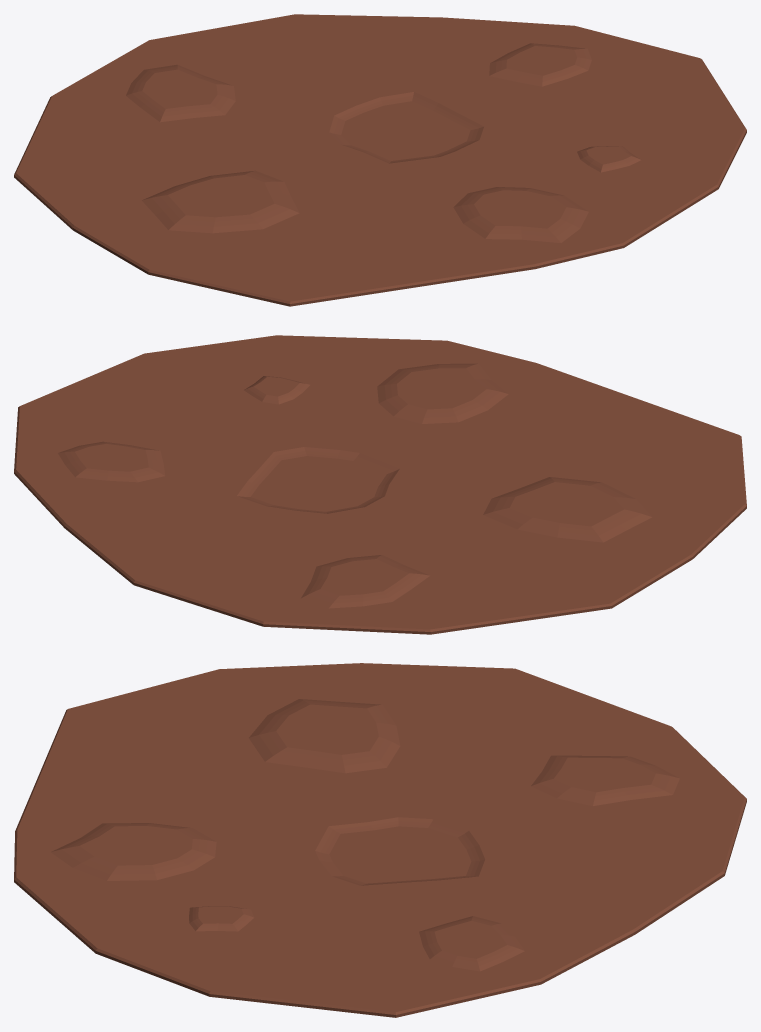
The model's file is rock-terrain-blob-ff95a3.glb.
3 views of the same model, one above another, from view 1: azimuth 30°, elevation 25°; view 2: azimuth 150°, elevation 25°; view 3: azimuth 270°, elevation 25° (orthographic). The views are drawn at different scales.
Visible parts, largest first — view 1: rock-terrain-blob-mesh; view 2: rock-terrain-blob-mesh; view 3: rock-terrain-blob-mesh.
Boxes of the visible parts, x1,y1,x2,y2 form: rock-terrain-blob-mesh: [14, 14, 746, 306]; rock-terrain-blob-mesh: [14, 335, 746, 634]; rock-terrain-blob-mesh: [14, 663, 746, 1017].
Size of the model in its own units: 8 by 0.12 by 7.06.
